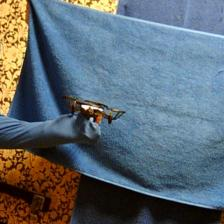drone: (62, 95, 128, 125)
